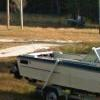Boat: (15, 34, 99, 93)
